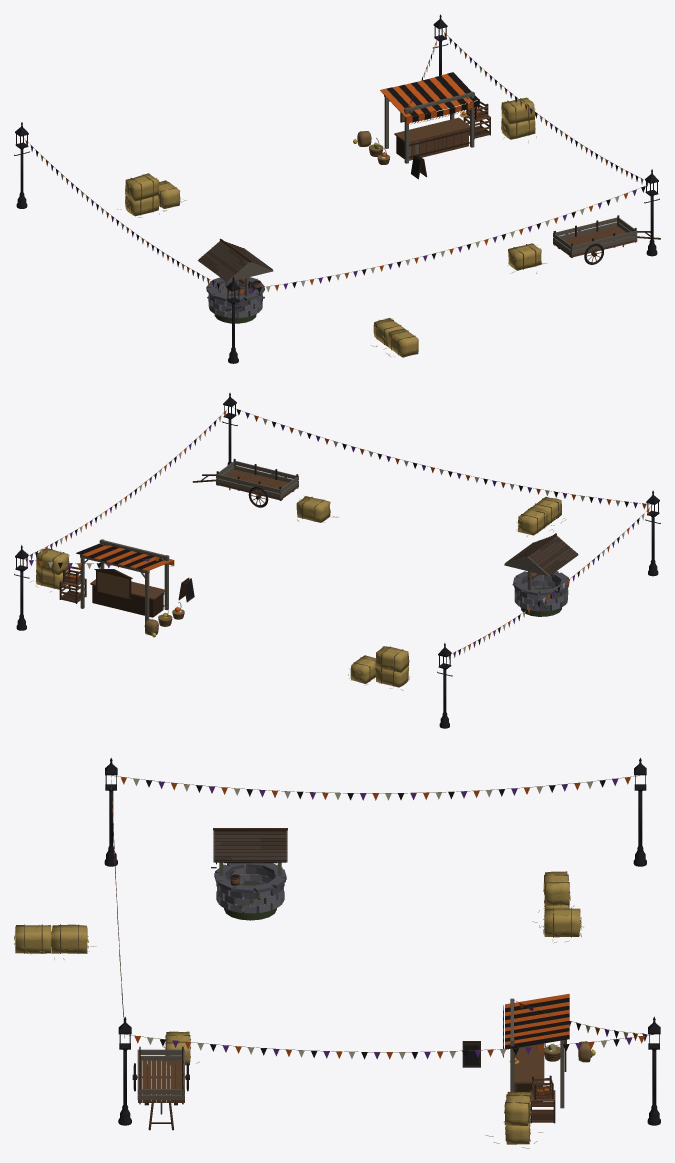
File: hg-square.glb
The picture shows the model from 3 angles, top to bottom: view 1: azimuth 30°, elevation 25°; view 2: azimuth 150°, elevation 25°; view 3: azimuth 270°, elevation 25°; orthographic projection. The views are drawn at different scales.
Parts seen in each view (by area): view 1: hg-square; view 2: hg-square; view 3: hg-square.
Boxes of the visible parts, x1=… form: hg-square: x1=14, y1=14, x2=660, y2=363; hg-square: x1=14, y1=393, x2=660, y2=728; hg-square: x1=14, y1=758, x2=660, y2=1148.
Bounding box in the file's own units: 24.59 × 4.62 × 23.23.
